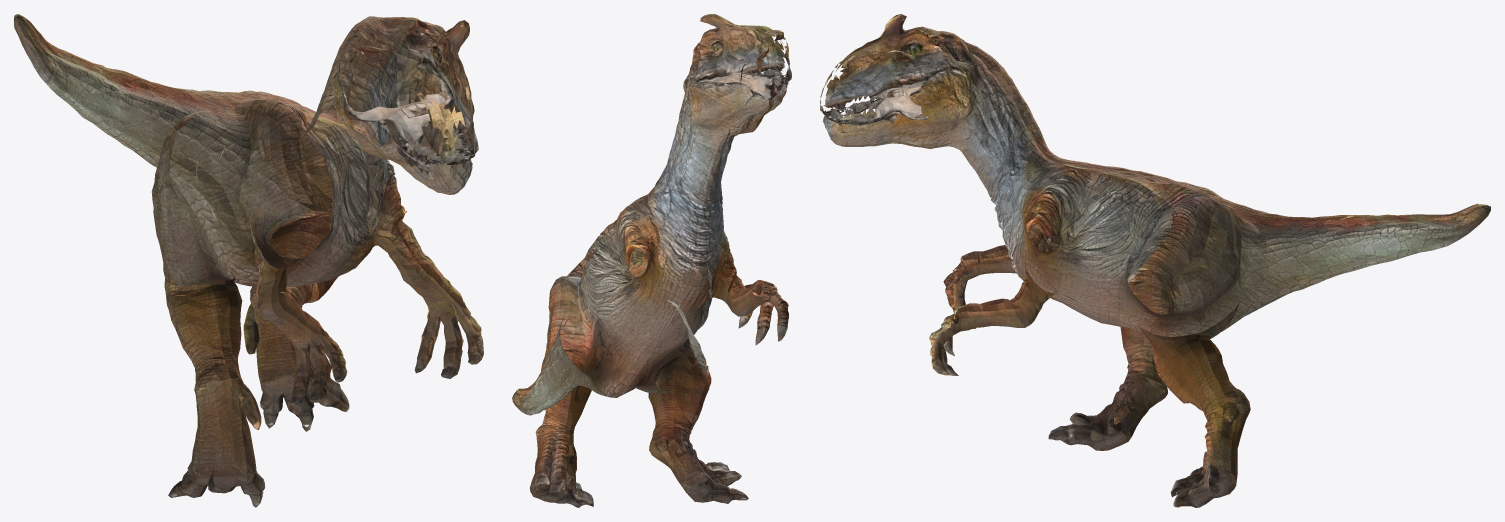
The model's file is sample-dino.glb.
3 renders of one model, left to right at view 1: azimuth 30°, elevation 25°; view 2: azimuth 150°, elevation 25°; view 3: azimuth 270°, elevation 25°, orthographic. The views are drawn at different scales.
Parts seen in each view (by area): view 1: Uploaded_FBX_Test_Dinosaur; view 2: Uploaded_FBX_Test_Dinosaur; view 3: Uploaded_FBX_Test_Dinosaur.
Part boxes in pixels (<box>): Uploaded_FBX_Test_Dinosaur: <box>14,14,483,507</box>; Uploaded_FBX_Test_Dinosaur: <box>512,14,791,507</box>; Uploaded_FBX_Test_Dinosaur: <box>820,14,1490,507</box>.
Bounding box in the file's own units: 0.5401 × 1.2 × 1.65.
Materials: 1 (1 with a texture image).
